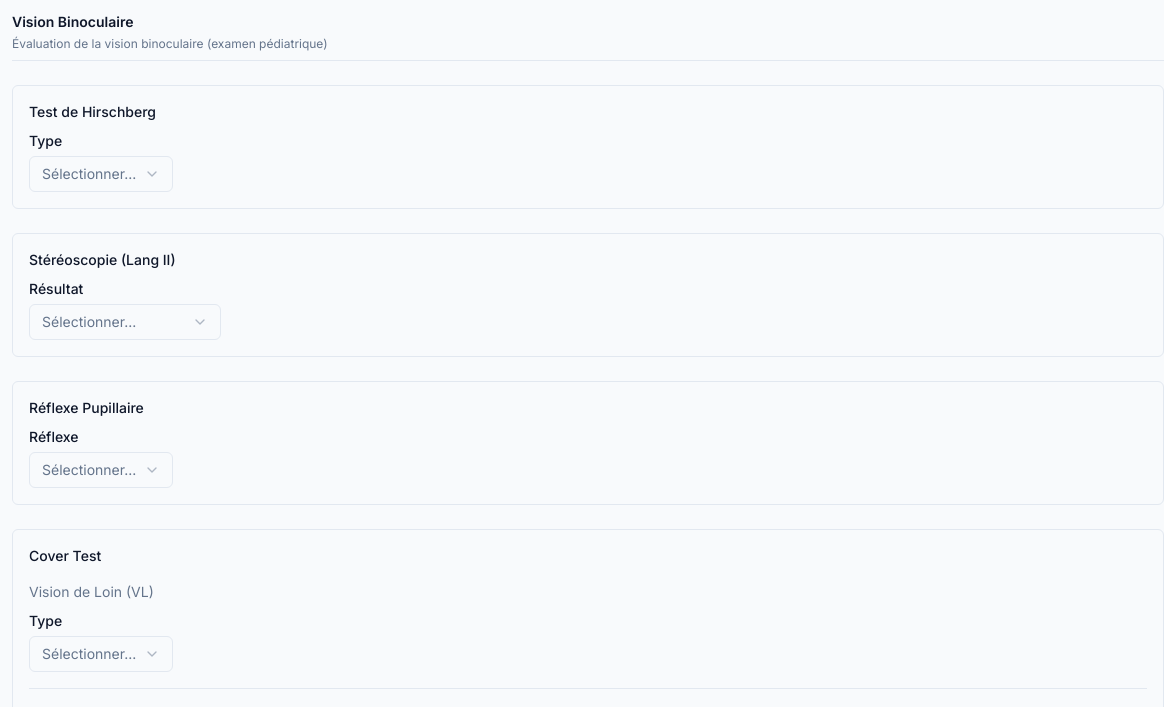
Test: VisionBinoculaireForm › précision du reflet anormal › demande une précision quand le reflet est anormal
Click the dropdown named "réflexe".
click(101, 470)  # box [29, 452, 173, 488]
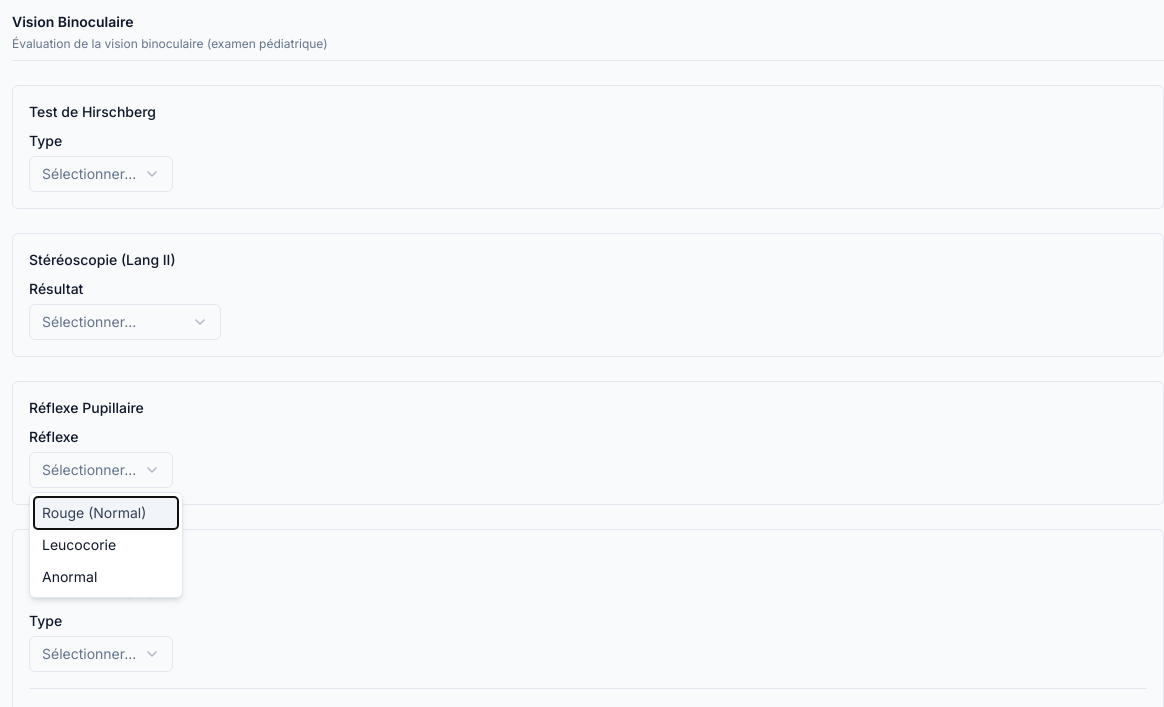
Click the option "Leucocorie".
click(79, 544)  # box [42, 536, 116, 553]
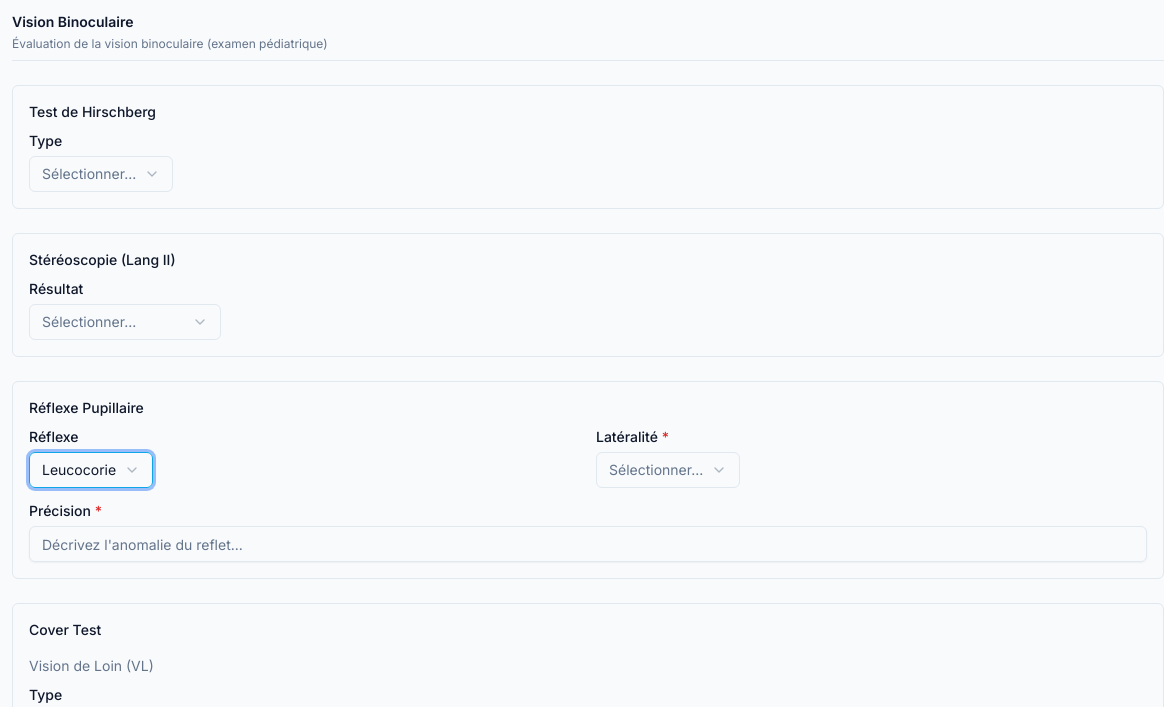
Now the field labelled "Précision *" is shown, box [29, 526, 1147, 562]
